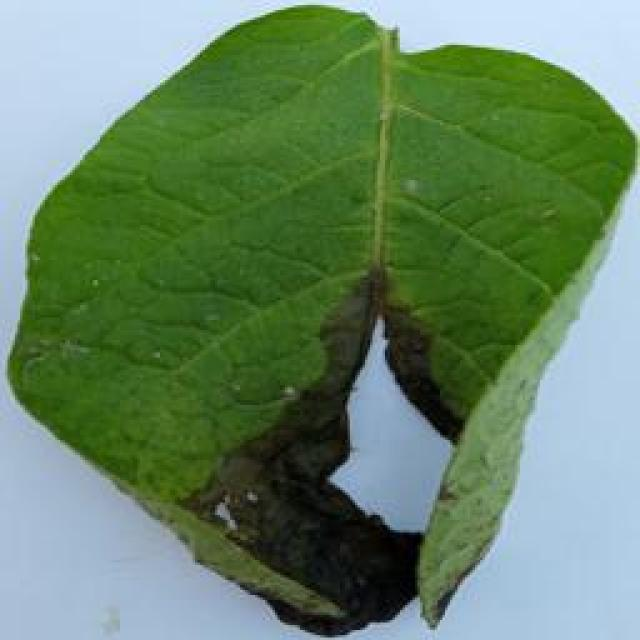Potato_Late_Blight: (10, 5, 628, 633)
